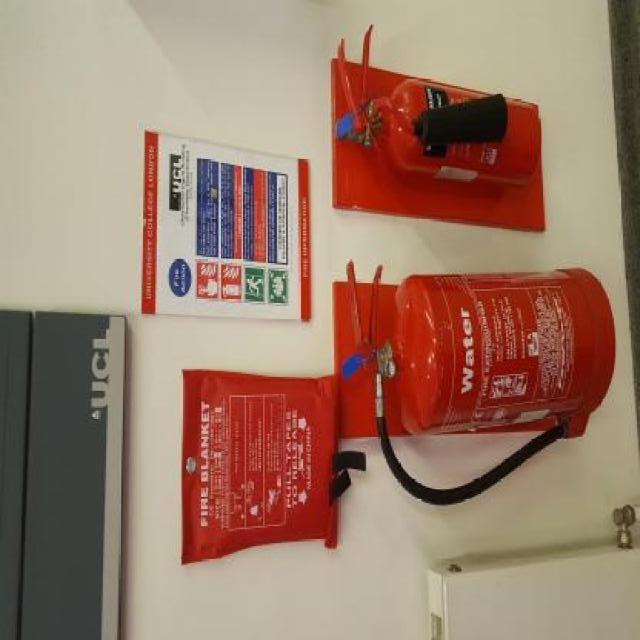fire extinguisher: (347, 257, 616, 511), (338, 25, 542, 190)
